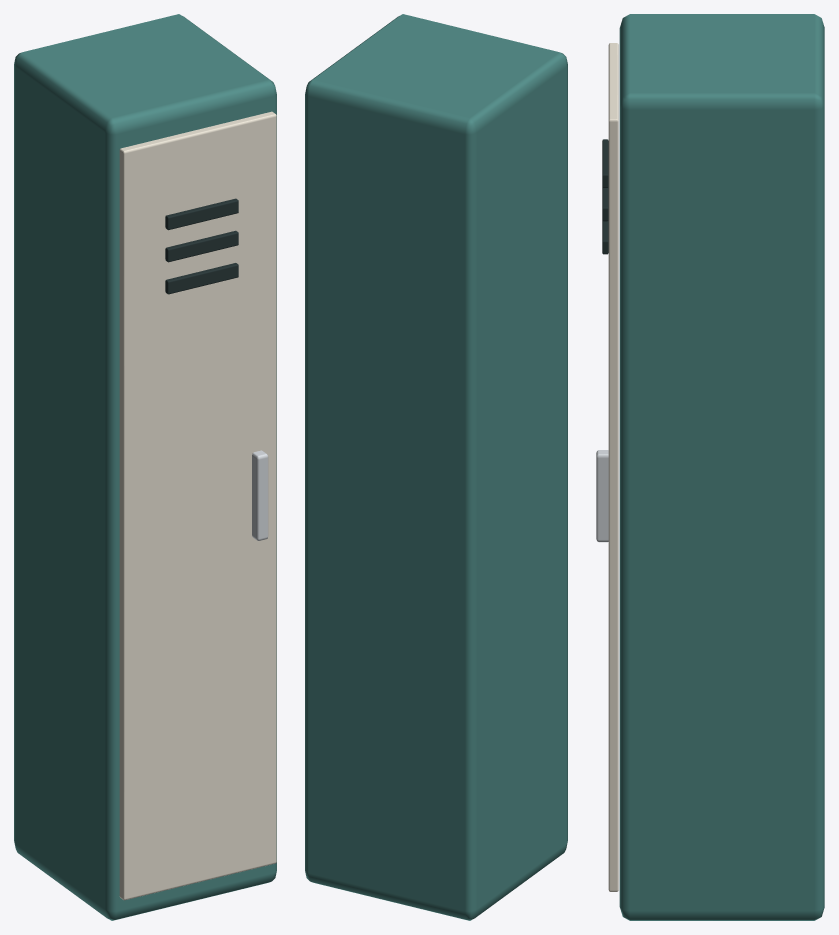
File: wp-casier-scolaire.glb
3 renders of one model, left to right at view 1: azimuth 30°, elevation 25°; view 2: azimuth 150°, elevation 25°; view 3: azimuth 270°, elevation 25°, orthographic. The views are drawn at different scales.
Parts seen in each view (by area): view 1: wp-casier-scolaire; view 2: wp-casier-scolaire; view 3: wp-casier-scolaire.
Part boxes in pixels (x1=…): wp-casier-scolaire: x1=14, y1=14, x2=276, y2=920; wp-casier-scolaire: x1=305, y1=14, x2=567, y2=920; wp-casier-scolaire: x1=596, y1=14, x2=824, y2=920.
Bounding box in the file's own units: 0.4 × 1.8 × 0.45.
